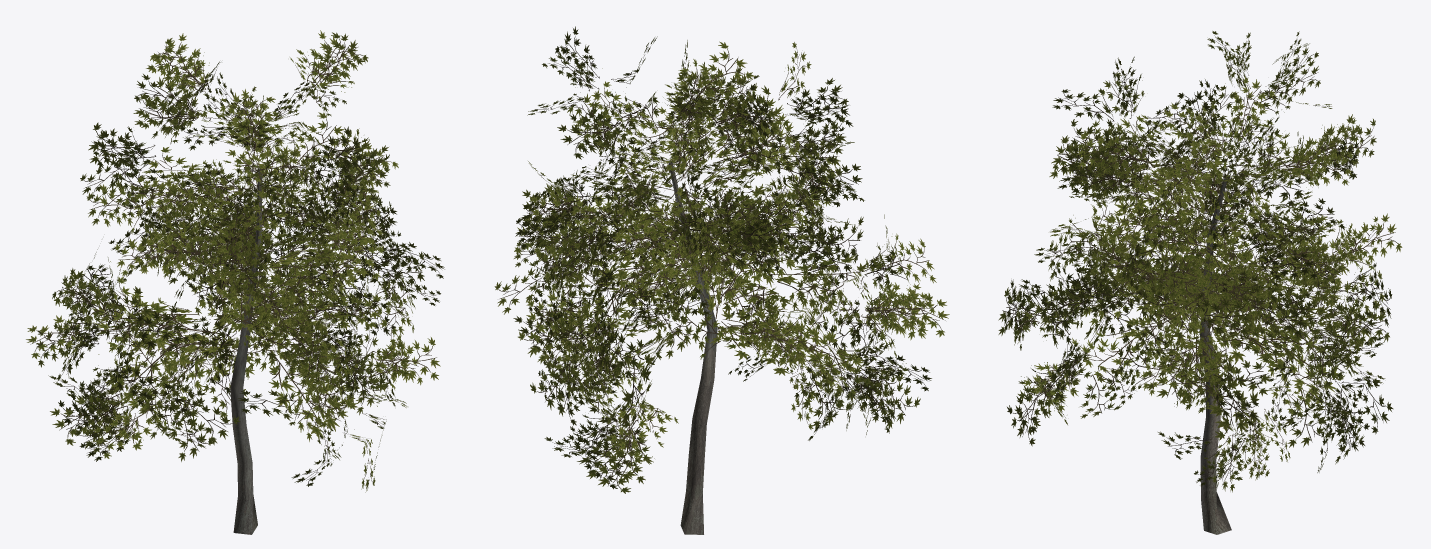
File: SM_KYT_MapleBush01.fbx
The picture shows the model from 3 angles, left to right: view 1: azimuth 30°, elevation 25°; view 2: azimuth 150°, elevation 25°; view 3: azimuth 270°, elevation 25°; orthographic projection. The views are drawn at different scales.
Parts seen in each view (by area): view 1: SM_KYT_MapleBush01_LOD0; view 2: SM_KYT_MapleBush01_LOD0; view 3: SM_KYT_MapleBush01_LOD0.
Boxes of the visible parts, <box> form: SM_KYT_MapleBush01_LOD0: <box>26,30,444,534</box>; SM_KYT_MapleBush01_LOD0: <box>494,26,949,534</box>; SM_KYT_MapleBush01_LOD0: <box>998,31,1402,534</box>.
Bounding box in the file's own units: 130 × 116 × 151.
2 materials, 2 textured.
